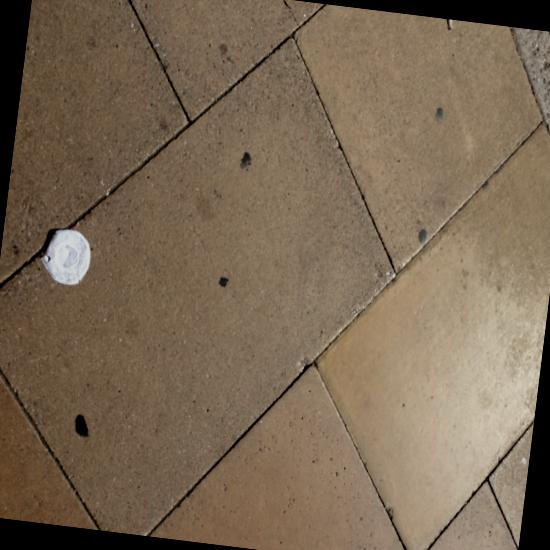Cigarette: (447, 19, 453, 30)
Plastic lid: (41, 229, 91, 285)
